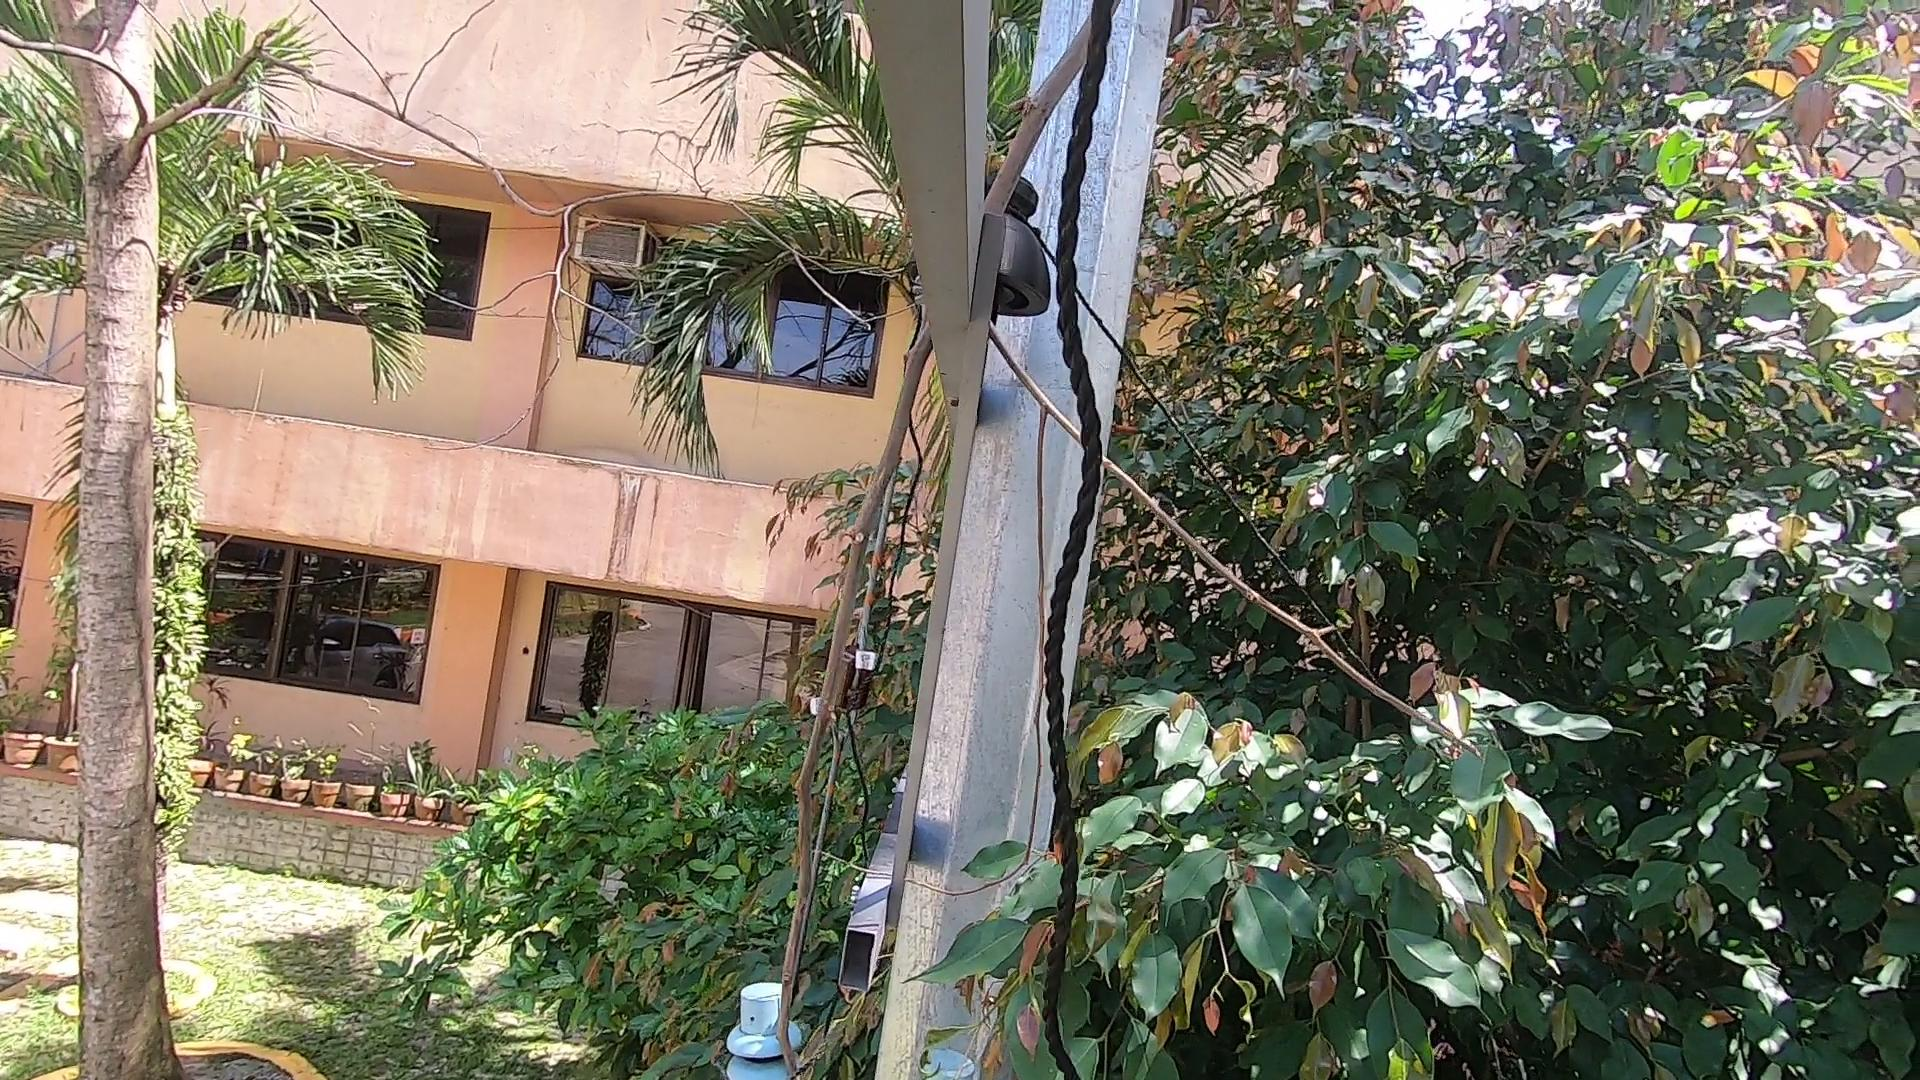branch with leaves: (899, 657, 1270, 1080)
tree branch: (764, 3, 1131, 1080)
